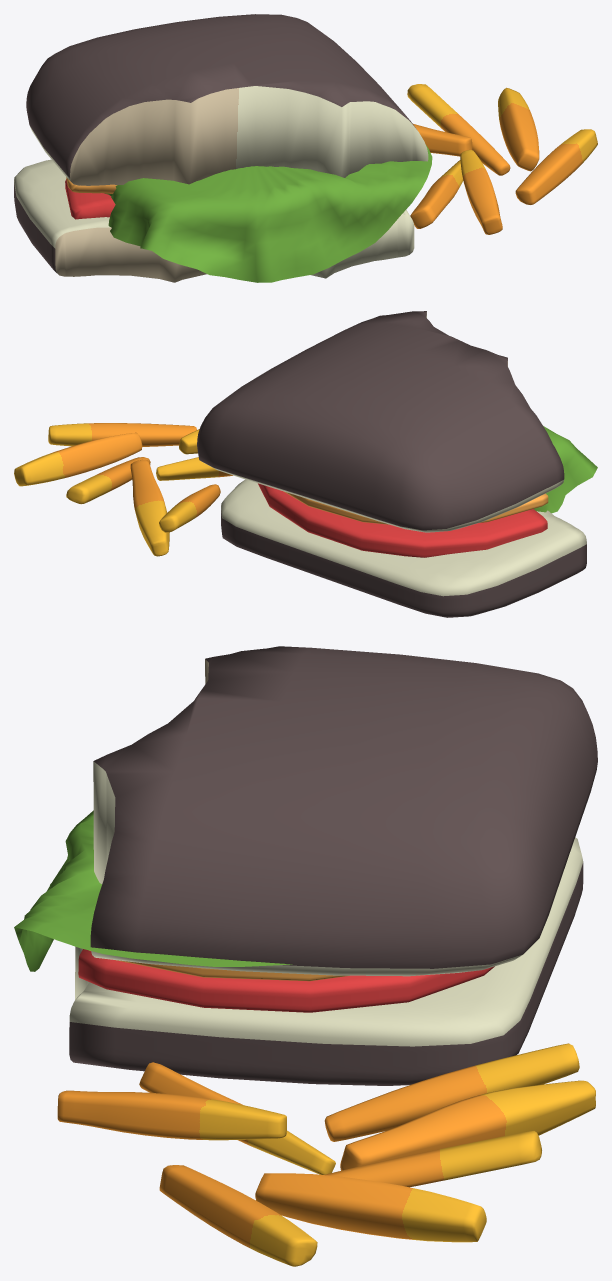
Rendered from sandwich_padre.fbx.
The picture shows the model from 3 angles, top to bottom: view 1: azimuth 30°, elevation 25°; view 2: azimuth 150°, elevation 25°; view 3: azimuth 270°, elevation 25°; orthographic projection. The views are drawn at different scales.
Parts seen in each view (by area): view 1: sandwich_padre, papas; view 2: sandwich_padre, papas; view 3: sandwich_padre, papas.
Part boxes in pixels (x1,y1,x2,y2): sandwich_padre: (14, 14, 432, 282); papas: (407, 84, 597, 234); sandwich_padre: (197, 311, 597, 617); papas: (14, 423, 232, 556); sandwich_padre: (14, 646, 597, 1085); papas: (57, 1043, 595, 1266).
Bounding box in the file's own units: 72.84 × 23.3 × 42.45.
